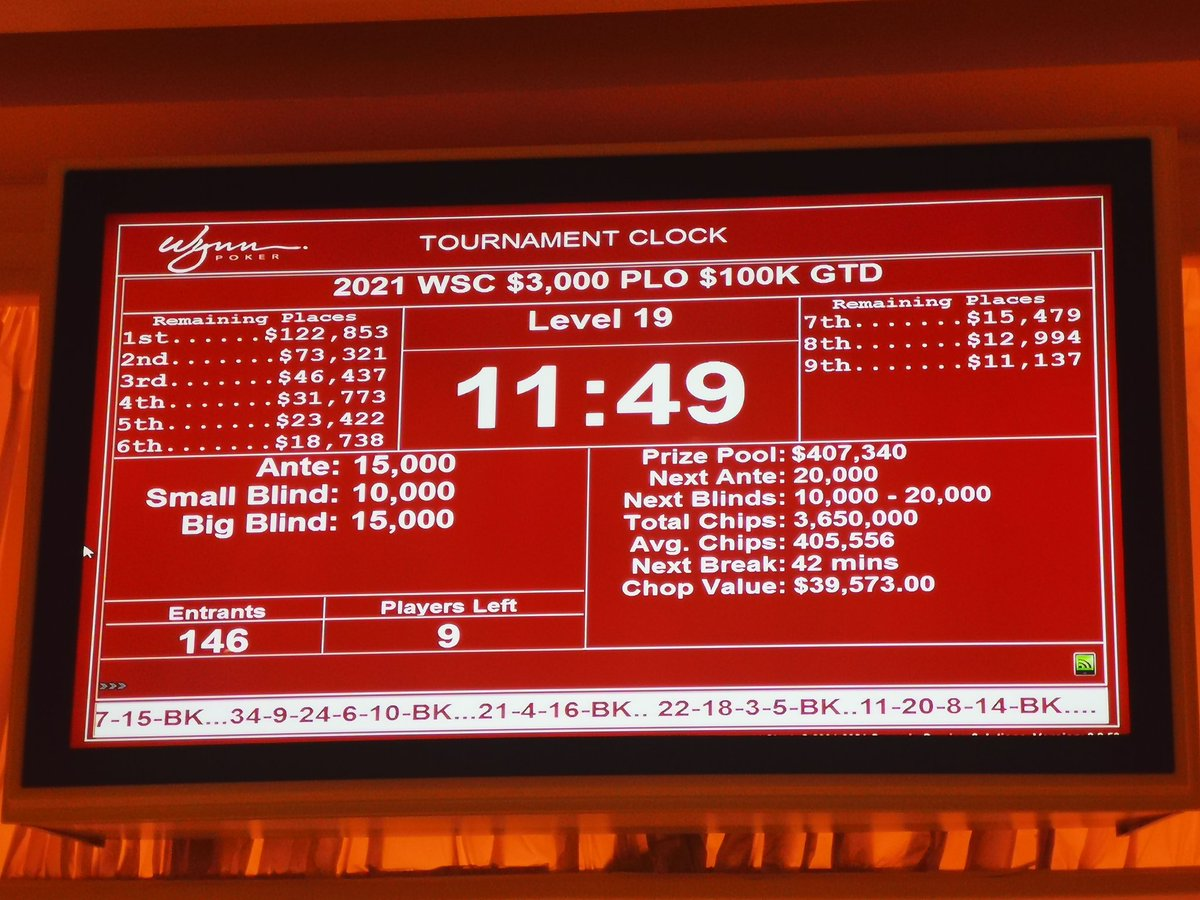PlayersLeft: (317, 589, 589, 655)
Remaining: (793, 286, 1102, 444), (112, 306, 407, 455)
TournamentClock: (114, 253, 1109, 665)
